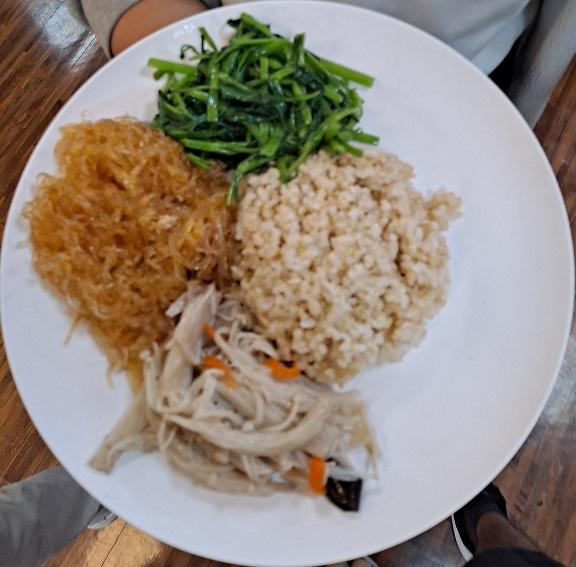big fried chicken leg: (7, 8, 576, 564)
box: (230, 143, 456, 378)
braised fish fillet: (126, 314, 388, 512), (35, 114, 219, 343), (156, 24, 369, 162)
